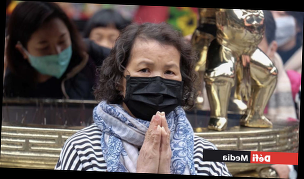with_mask: (121, 59, 186, 122), (27, 28, 73, 80)
